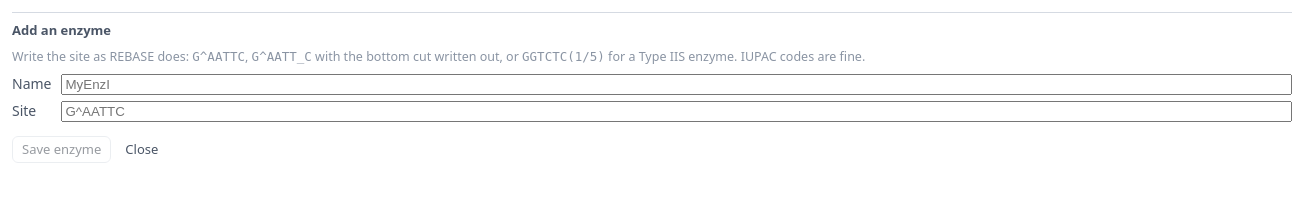
Test case: CustomEnzymeForm (#217) › shows the parser error and keeps Save off
This screenshot has width=1304, height=206.
In the field named "Enzyme name": (677,84) x1=62 y1=74 x2=1292 y2=95, type "Bad"
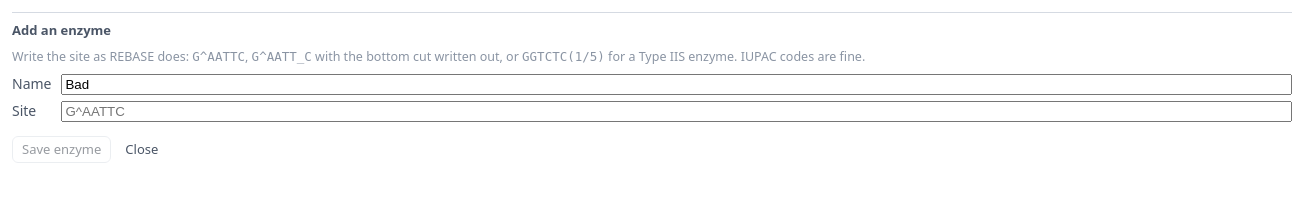
In the field named "Recognition site in REBASE notation": (677,112) x1=62 y1=101 x2=1292 y2=122, type "GAATTC"
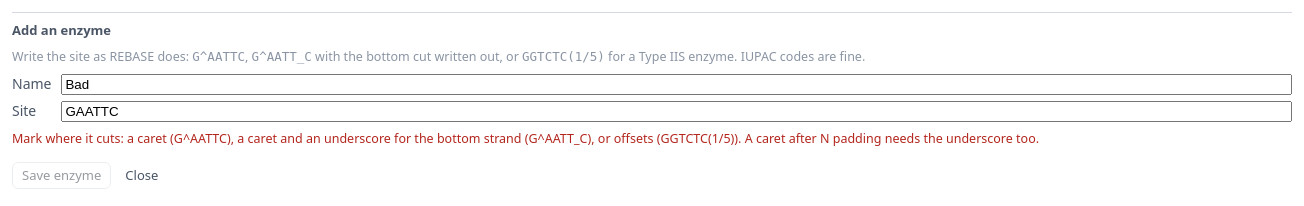
Expected: the button "Save enzyme" is disabled, x1=12 y1=162 x2=111 y2=189
Result: the text "Mark where it cuts" is shown at x1=12 y1=130 x2=1039 y2=147
